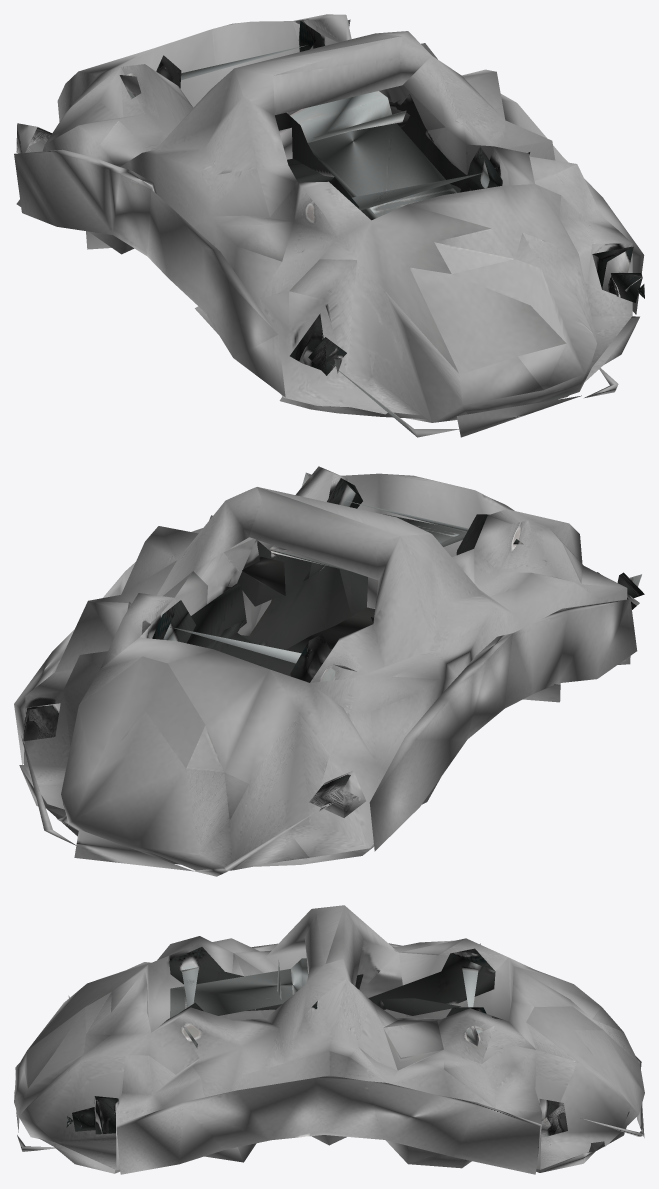
File: brake_caliper_gray.obj
3 renders of one model, top to bottom at view 1: azimuth 30°, elevation 25°; view 2: azimuth 150°, elevation 25°; view 3: azimuth 270°, elevation 25°, orthographic. The views are drawn at different scales.
Visible parts, largest first — view 1: part; view 2: part; view 3: part.
Part boxes in pixels (x1,y1,x2,y2): part: [14, 14, 644, 437]; part: [14, 466, 644, 876]; part: [14, 905, 644, 1174].
Size of the model in its own units: 0.1512 by 0.0883 by 0.2787.
